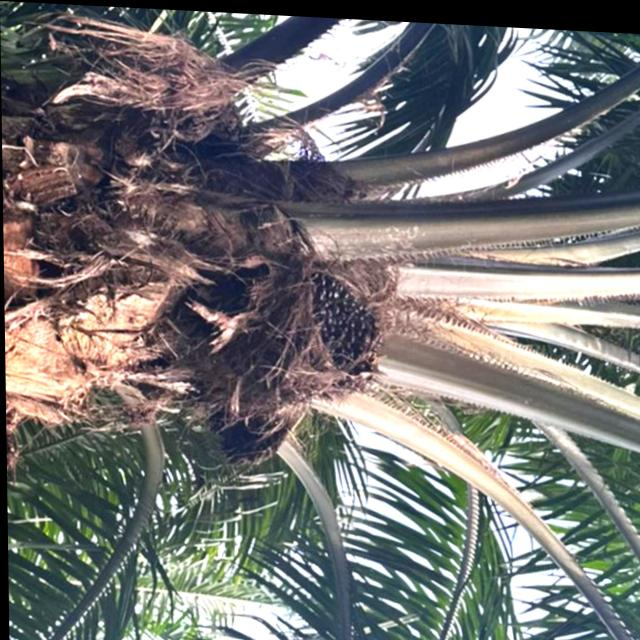ripe: (283, 254, 398, 417)
